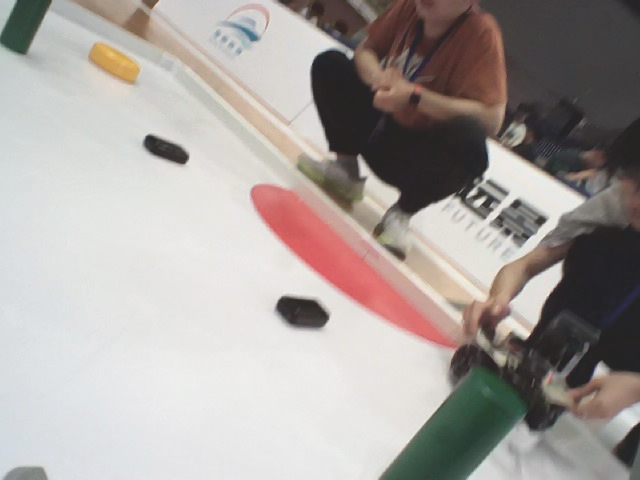black: (273, 293, 334, 334), (139, 131, 191, 164)
yellow: (84, 39, 140, 84)
zhuzi: (368, 361, 522, 480), (1, 1, 54, 58)
